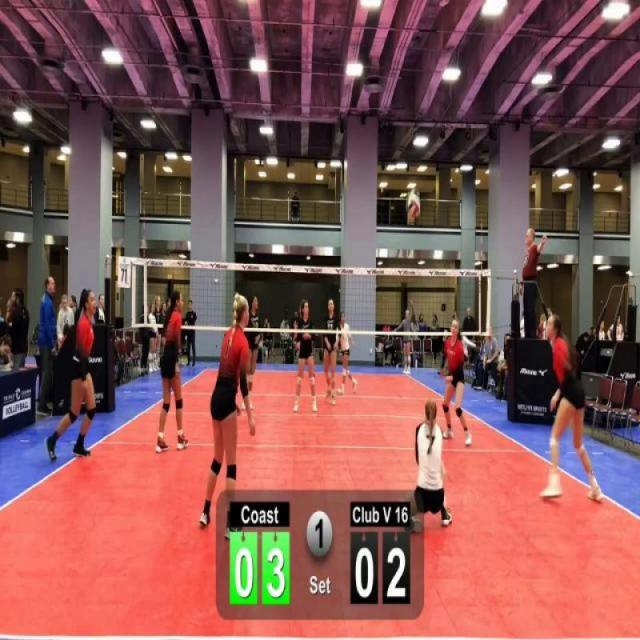volleyball: (405, 186, 425, 221)
